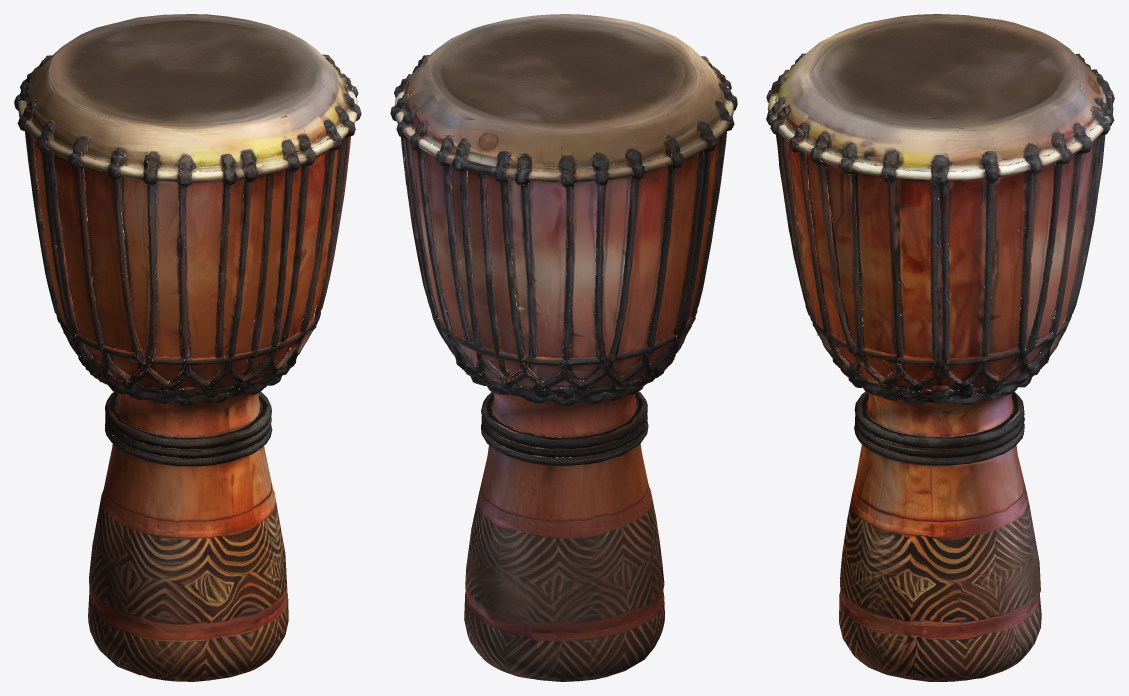
The model's file is drum_optimized.glb.
3 renders of one model, left to right at view 1: azimuth 30°, elevation 25°; view 2: azimuth 150°, elevation 25°; view 3: azimuth 270°, elevation 25°, orthographic.
Parts seen in each view (by area): view 1: model.001; view 2: model.001; view 3: model.001.
Part boxes in pixels (x1,y1,x2,y2): model.001: [14, 14, 361, 681]; model.001: [390, 14, 737, 681]; model.001: [766, 14, 1114, 681].
Size of the model in its own units: 1 by 1.82 by 0.9973.
1 material, 1 textured.
